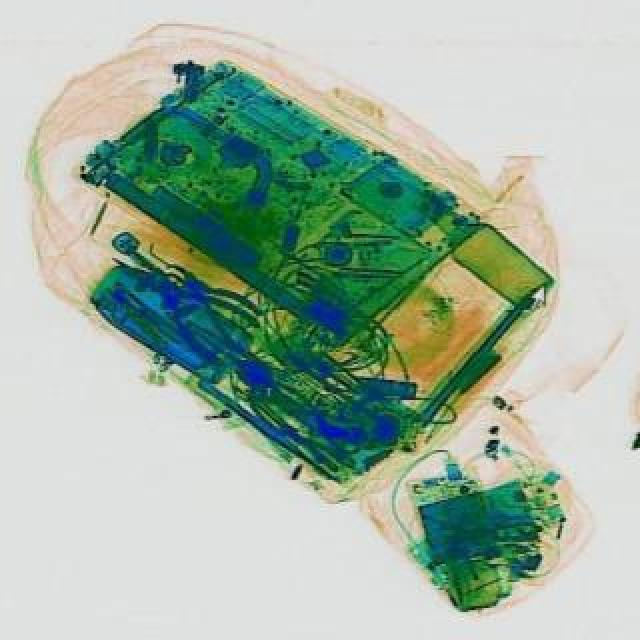wrench: (100, 226, 268, 372), (246, 370, 380, 484), (156, 244, 268, 344)
